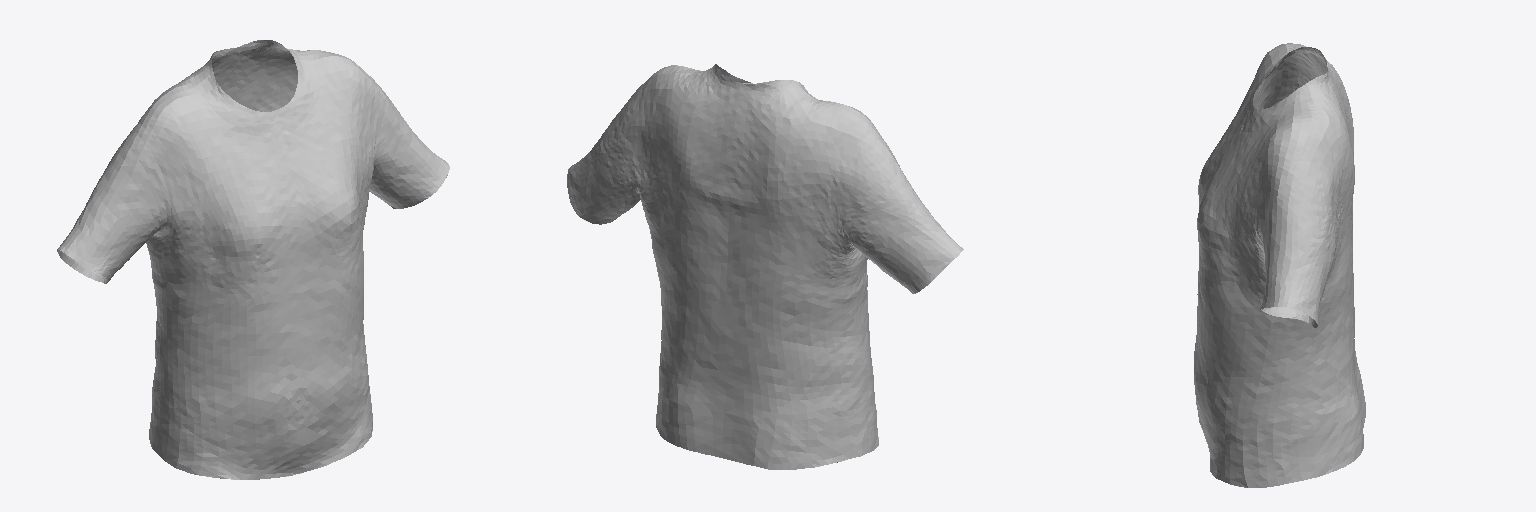
File: t-shirt_31.obj
3 views of the same model, side by side, from view 1: azimuth 30°, elevation 25°; view 2: azimuth 150°, elevation 25°; view 3: azimuth 270°, elevation 25° (orthographic).
Bounding box in the file's own units: 0.6729 × 0.6443 × 0.2583.